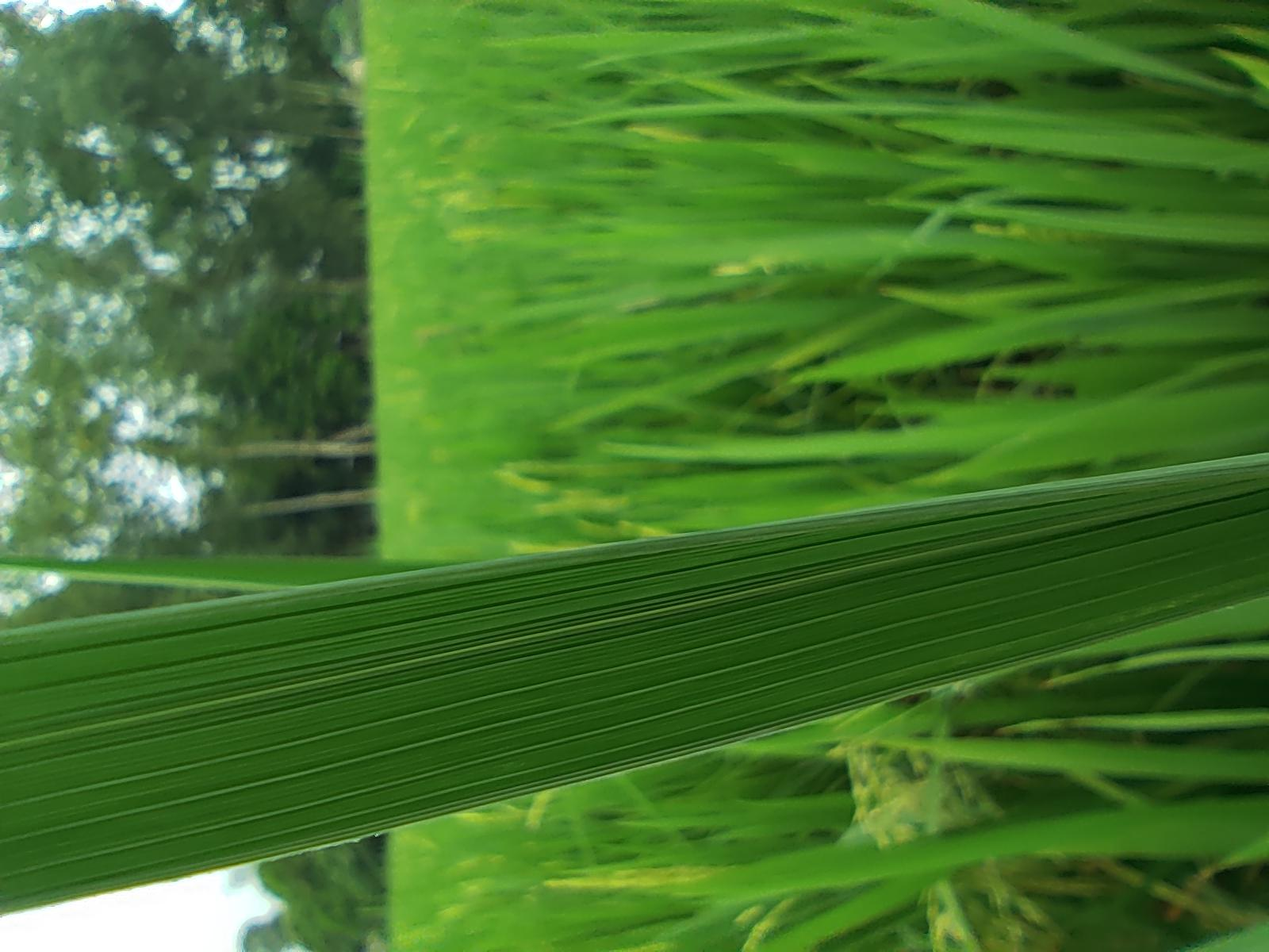Healthy: (50, 0, 665, 951)
